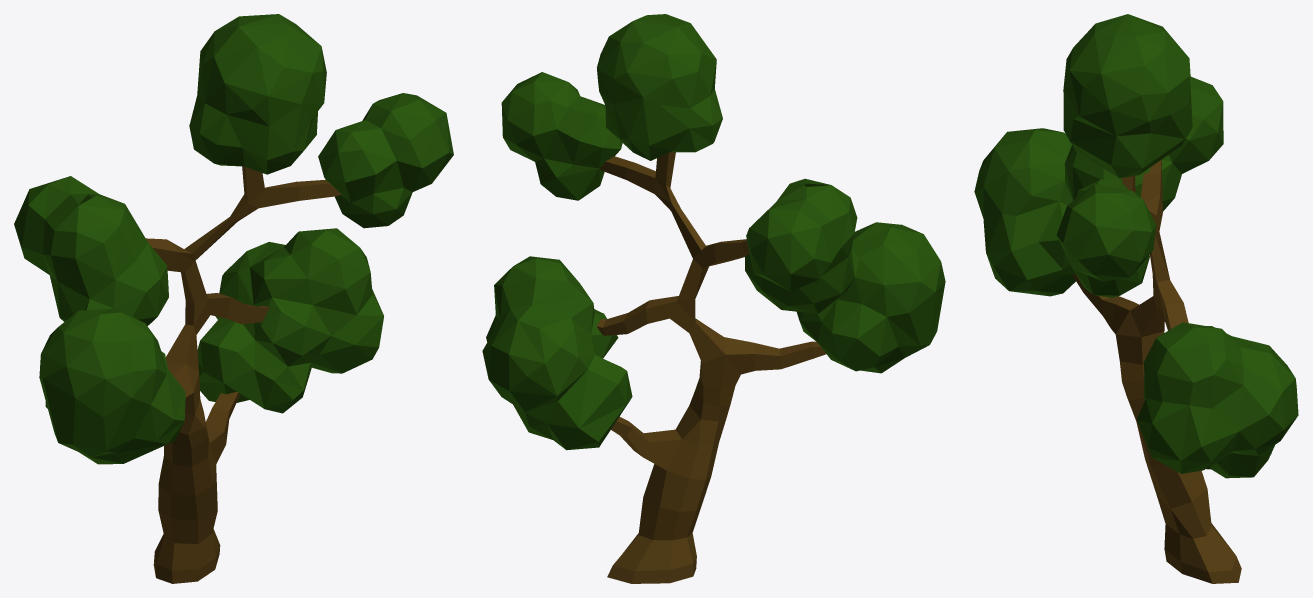
Rendered from tree5.obj.
3 views of the same model, side by side, from view 1: azimuth 30°, elevation 25°; view 2: azimuth 150°, elevation 25°; view 3: azimuth 270°, elevation 25° (orthographic). The views are drawn at different scales.
Parts seen in each view (by area): view 1: polySurface26; view 2: polySurface26; view 3: polySurface26.
Boxes of the visible parts, left/top/right/bottom form: polySurface26: left=14, top=14, right=453, bottom=583; polySurface26: left=482, top=14, right=945, bottom=583; polySurface26: left=974, top=14, right=1298, bottom=583.
Size of the model in its own units: 3.35 by 4.11 by 2.16.
1 material, 1 textured.
